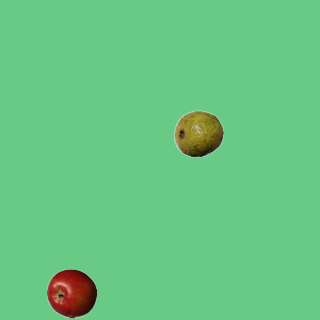Apple Braeburn: (46, 268, 96, 318)
Guava: (173, 108, 223, 158)
